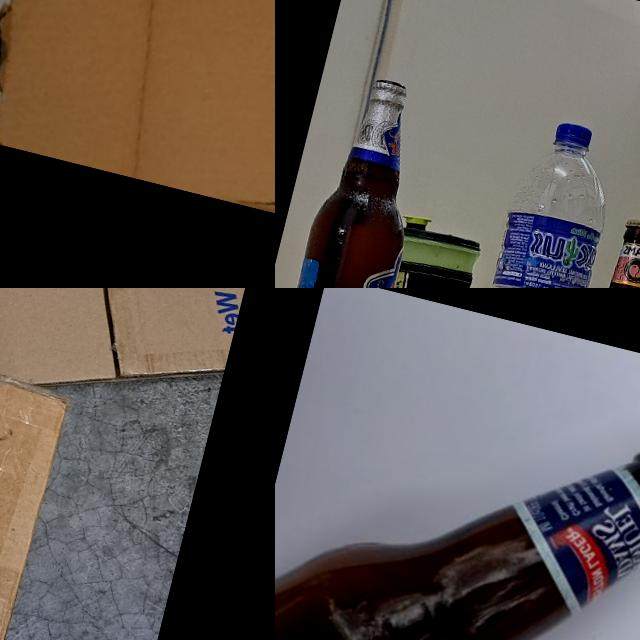garrafa de vidro: (275, 337, 640, 640), (275, 72, 440, 288)
garrafa plástica: (458, 114, 628, 288)
papelão: (0, 0, 275, 287), (0, 288, 269, 433), (0, 292, 78, 640)
tampa plástica: (548, 120, 598, 160)
